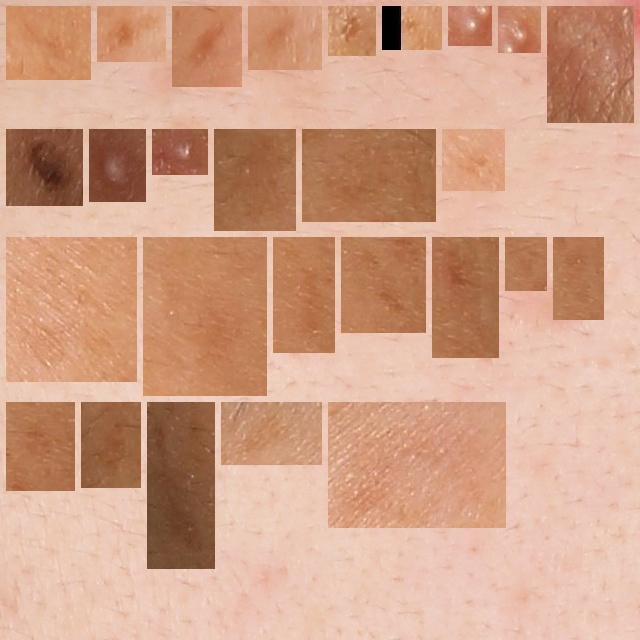hypertrophic_scar: (555, 14, 626, 115)
melasma: (336, 410, 498, 520), (151, 245, 259, 388), (14, 245, 129, 374), (310, 137, 428, 214), (155, 410, 207, 561), (222, 137, 288, 223), (349, 245, 418, 325), (440, 245, 491, 350), (281, 245, 327, 345), (14, 14, 83, 72), (229, 410, 314, 457), (14, 410, 67, 483), (180, 14, 234, 79), (89, 410, 133, 480), (256, 14, 314, 62), (561, 245, 596, 312), (450, 137, 497, 183), (105, 14, 158, 54), (390, 14, 434, 42), (336, 14, 368, 48), (513, 245, 539, 283)
nevus: (14, 137, 75, 198)
pustule: (97, 137, 138, 194), (160, 137, 200, 167), (506, 14, 533, 45), (456, 14, 484, 38)
